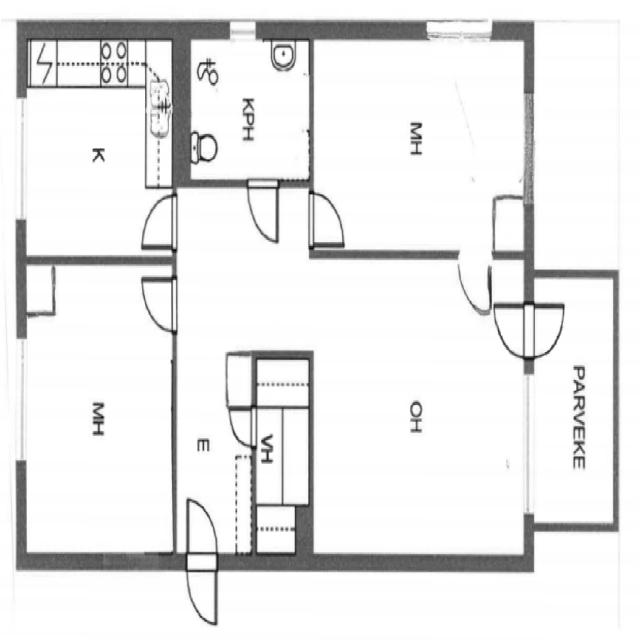door: (182, 494, 223, 630), (492, 296, 568, 362), (134, 189, 178, 255), (454, 244, 494, 316), (245, 172, 281, 249), (136, 268, 178, 332), (308, 185, 348, 248), (225, 400, 259, 453)
window: (8, 324, 33, 470), (517, 364, 539, 523), (10, 87, 32, 233), (421, 11, 496, 50), (520, 84, 539, 208), (225, 15, 260, 42)
zone: (308, 253, 530, 564), (314, 37, 528, 254), (22, 259, 176, 559), (21, 34, 175, 262), (530, 273, 616, 530), (182, 32, 312, 183), (176, 346, 252, 557), (254, 354, 310, 558)
